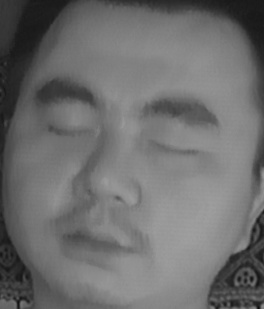blink: (44, 110, 96, 146), (151, 126, 198, 163)
mouth: (53, 213, 136, 269)
